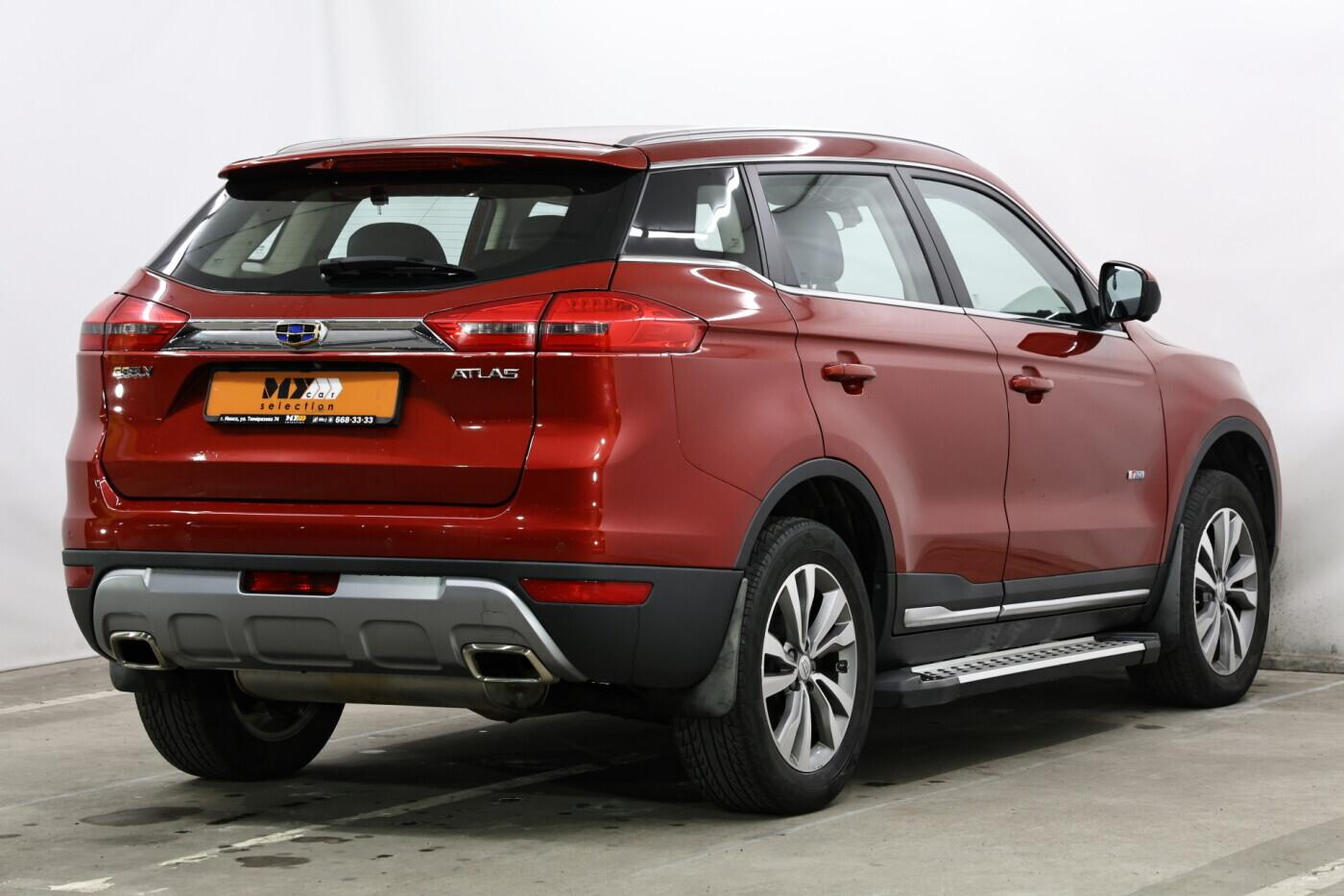Atlas_2016-2023: (55, 122, 1284, 819)
